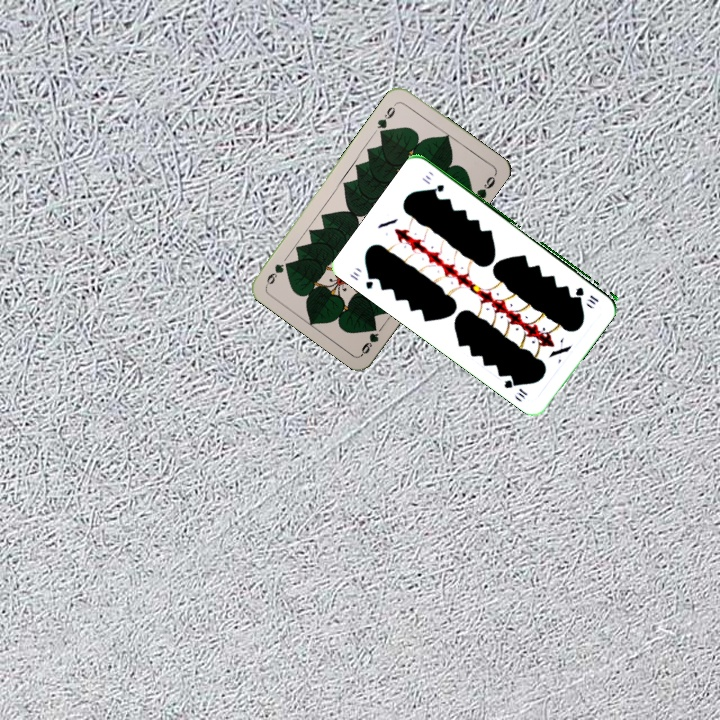G10: (346, 267, 379, 292), (572, 283, 601, 307)
G9: (373, 99, 400, 137), (357, 321, 381, 357)
